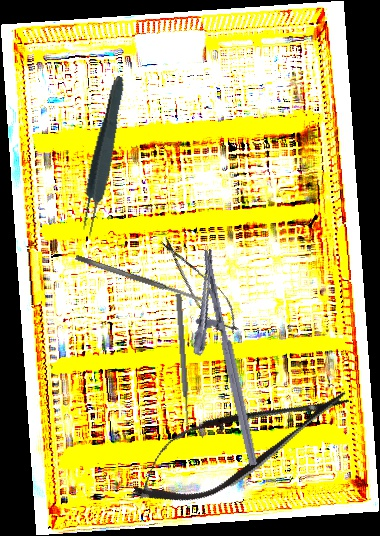Micro Scissor: (120, 362, 362, 524), (150, 230, 249, 342)
Needle Holder: (173, 248, 259, 473)
Pusher: (174, 293, 192, 429)
Spatula Surgical: (74, 253, 208, 306)
Tissue Forceps: (74, 73, 131, 239)
